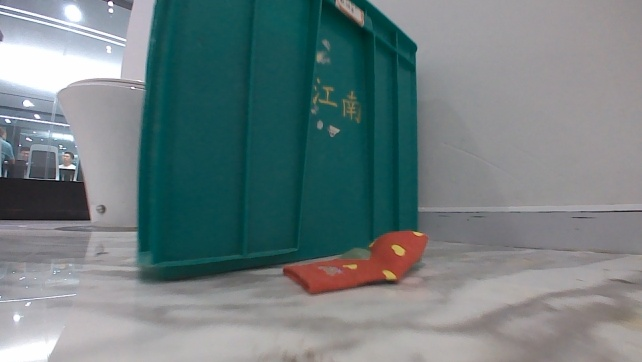socks: (280, 227, 430, 295)
toilet: (54, 75, 150, 231)
